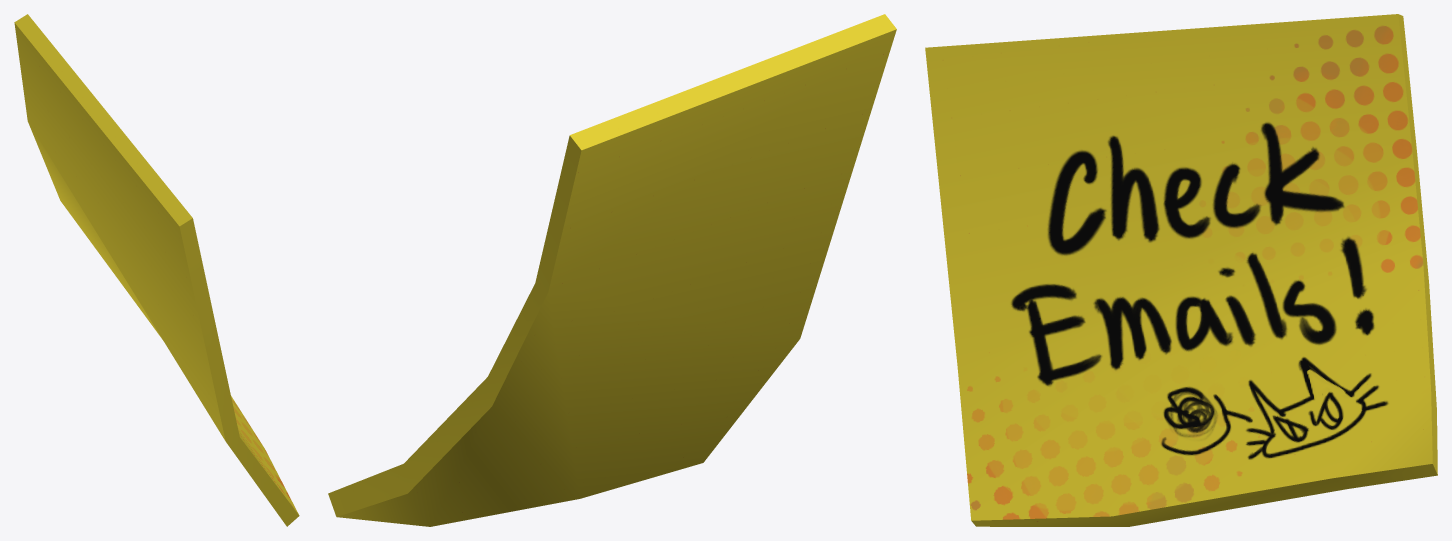
File: stickynote.glb
3 renders of one model, left to right at view 1: azimuth 30°, elevation 25°; view 2: azimuth 150°, elevation 25°; view 3: azimuth 270°, elevation 25°, orthographic. The views are drawn at different scales.
Visible parts, largest first — view 1: Box010; view 2: Box010; view 3: Box010.
Boxes of the visible parts, <box> form: Box010: <box>14,14,299,526</box>; Box010: <box>328,14,896,526</box>; Box010: <box>925,14,1437,526</box>.
Bounding box in the file's own units: 0.0771 × 0.1359 × 0.135.
Materials: 1 (1 with a texture image).
